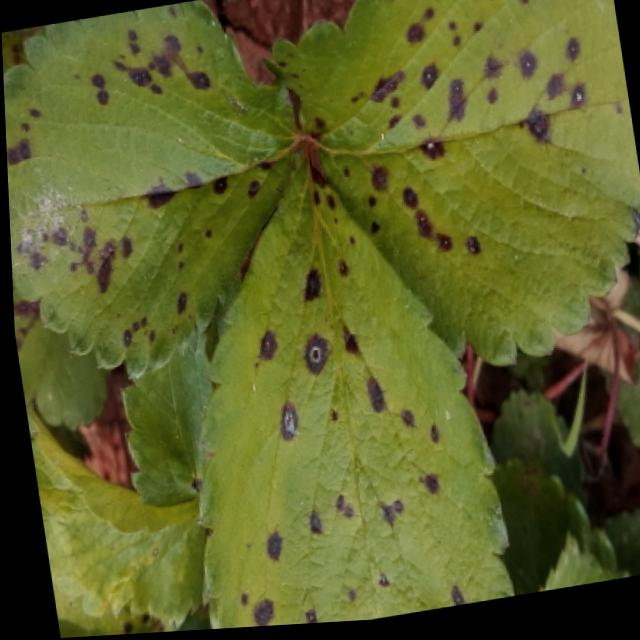Leaf Spot: (190, 164, 508, 632), (270, 0, 640, 373), (3, 1, 300, 384), (9, 270, 112, 432), (46, 578, 145, 639), (532, 528, 616, 598), (1, 31, 25, 76), (154, 610, 199, 634)
